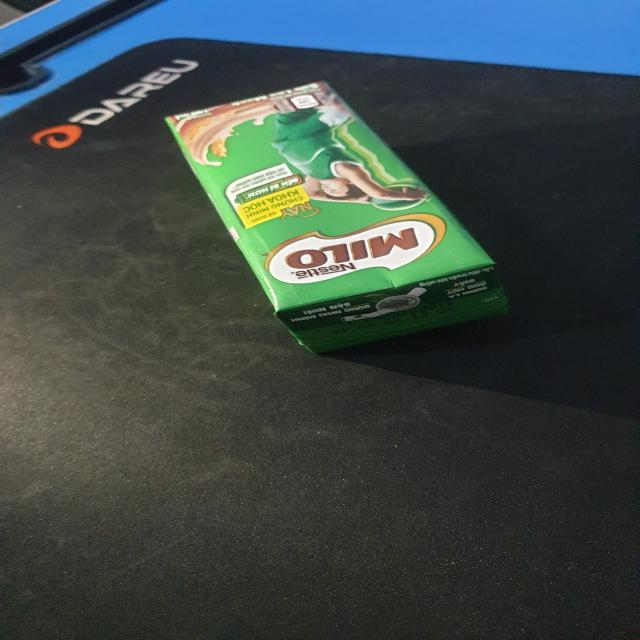Milo: (162, 80, 518, 358)
